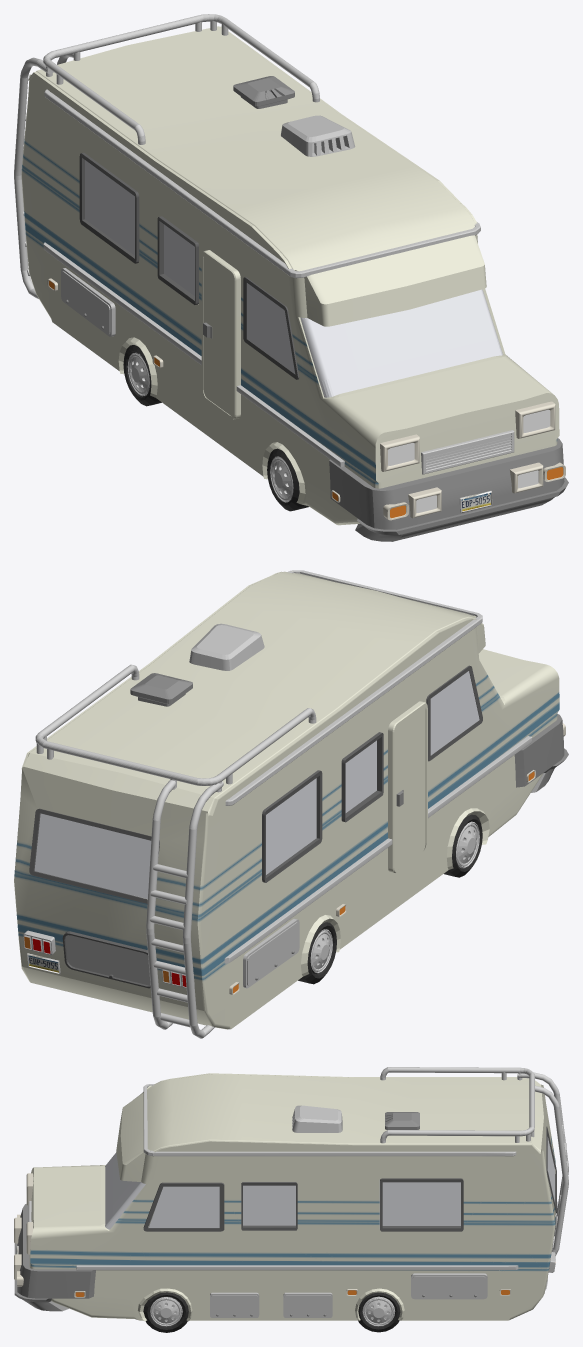
The model's file is Van3_Capot TER.fbx.
3 renders of one model, top to bottom at view 1: azimuth 30°, elevation 25°; view 2: azimuth 150°, elevation 25°; view 3: azimuth 270°, elevation 25°, orthographic. The views are drawn at different scales.
Parts seen in each view (by area): view 1: polySurface51; view 2: polySurface51; view 3: polySurface51.
Part boxes in pixels (x1=…): polySurface51: x1=14, y1=14, x2=568, y2=541; polySurface51: x1=14, y1=570, x2=568, y2=1038; polySurface51: x1=14, y1=1067, x2=568, y2=1332.
Size of the model in its own units: 3185 by 4210 by 10354.
12 materials, 2 textured.
